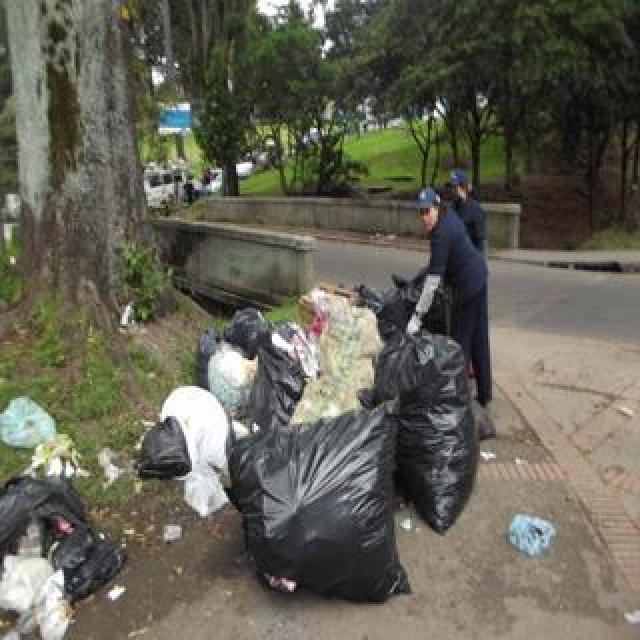Trashbag: (222, 412, 408, 604), (380, 320, 482, 536), (0, 475, 126, 613), (190, 302, 318, 425), (134, 421, 197, 486)
